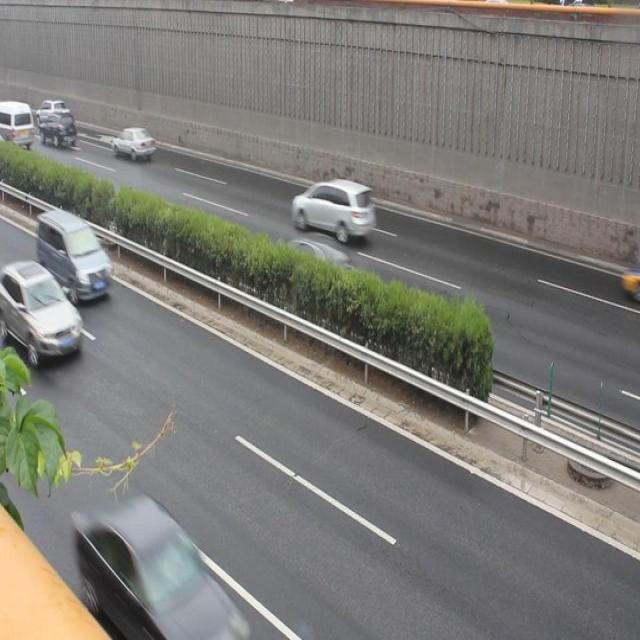car: (76, 496, 230, 640), (259, 236, 365, 312), (1, 261, 84, 358), (292, 177, 376, 240), (112, 126, 156, 161)
truck: (37, 210, 112, 300)
